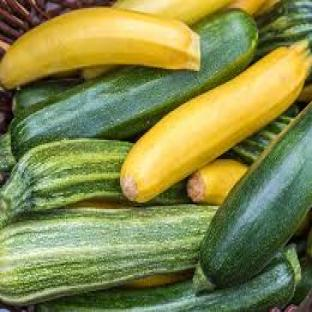Zucchini: (10, 12, 257, 159), (122, 42, 311, 202), (195, 103, 311, 289), (0, 206, 217, 305), (0, 7, 200, 88), (35, 250, 299, 311), (0, 139, 131, 226), (227, 107, 297, 164), (188, 160, 248, 205), (14, 79, 79, 114), (292, 259, 311, 303), (0, 132, 15, 173), (299, 84, 311, 102), (308, 229, 311, 258)
